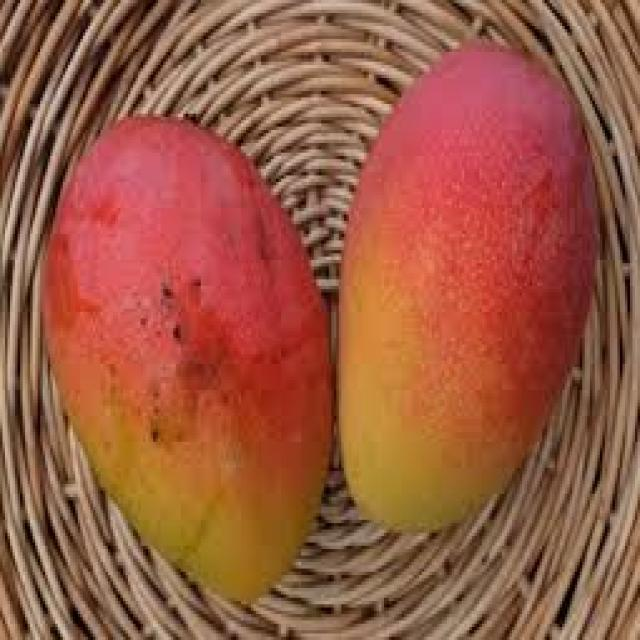mango: (43, 117, 336, 608)
